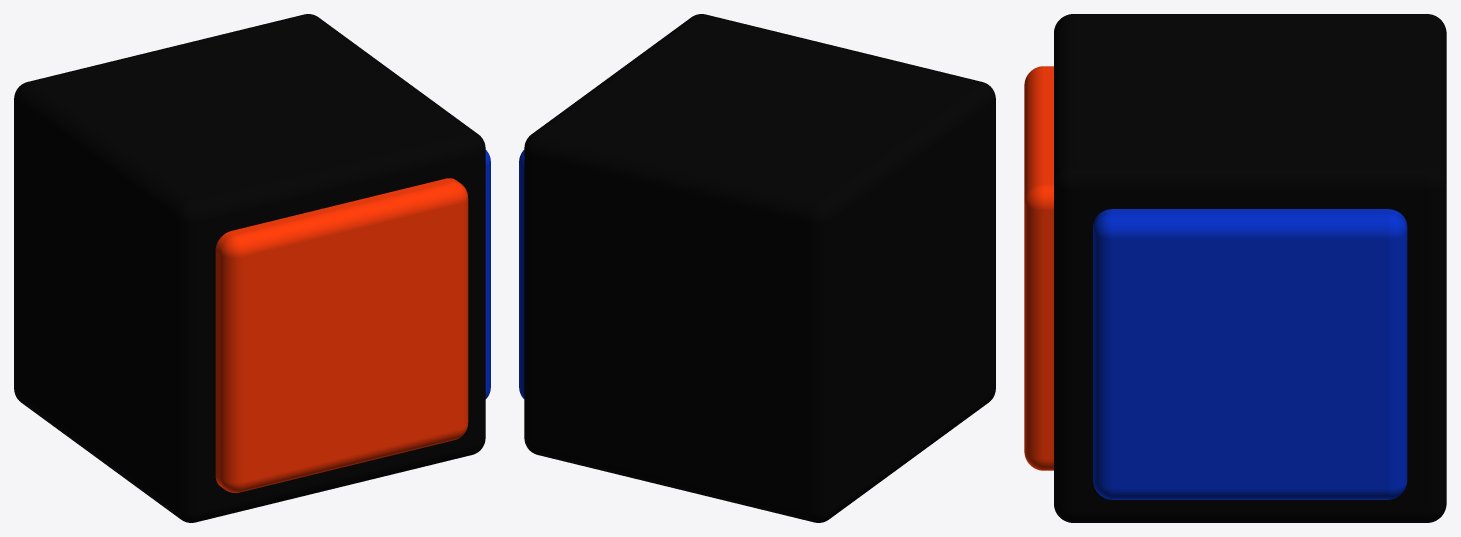
Rendered from cubinho(-1, 0, 1).obj.
3 renders of one model, left to right at view 1: azimuth 30°, elevation 25°; view 2: azimuth 150°, elevation 25°; view 3: azimuth 270°, elevation 25°, orthographic. The views are drawn at different scales.
Visible parts, largest first — view 1: (-1,_0,_1); view 2: (-1,_0,_1); view 3: (-1,_0,_1).
Boxes of the visible parts, box(x1,y1,x2,y2) form: (-1,_0,_1): box(14, 14, 490, 522); (-1,_0,_1): box(519, 14, 995, 522); (-1,_0,_1): box(1024, 14, 1446, 522).
Size of the model in its own units: 2.15 by 2 by 2.15.
